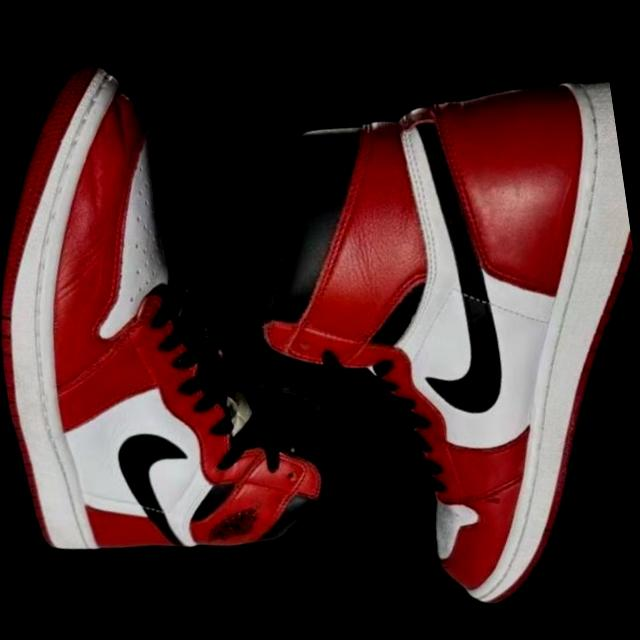nike_original_jordan: (165, 2, 640, 640), (0, 3, 428, 614)
